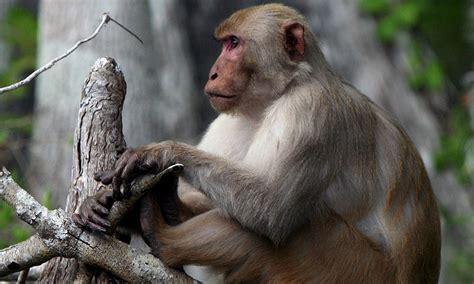monkey: (74, 5, 440, 284)
